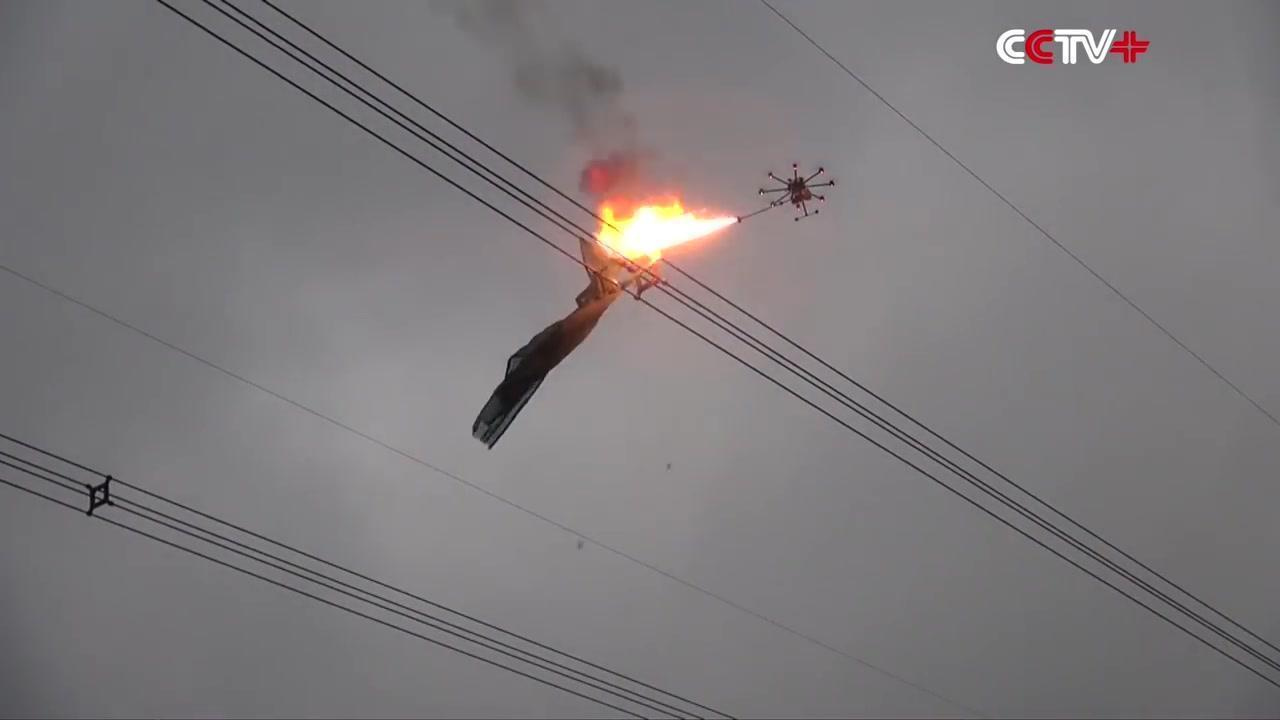UAV: (738, 163, 836, 224)
